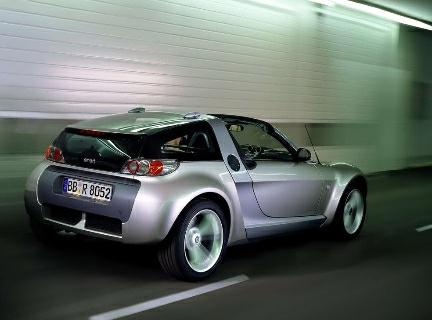smart-roadster: (38, 108, 367, 275)
